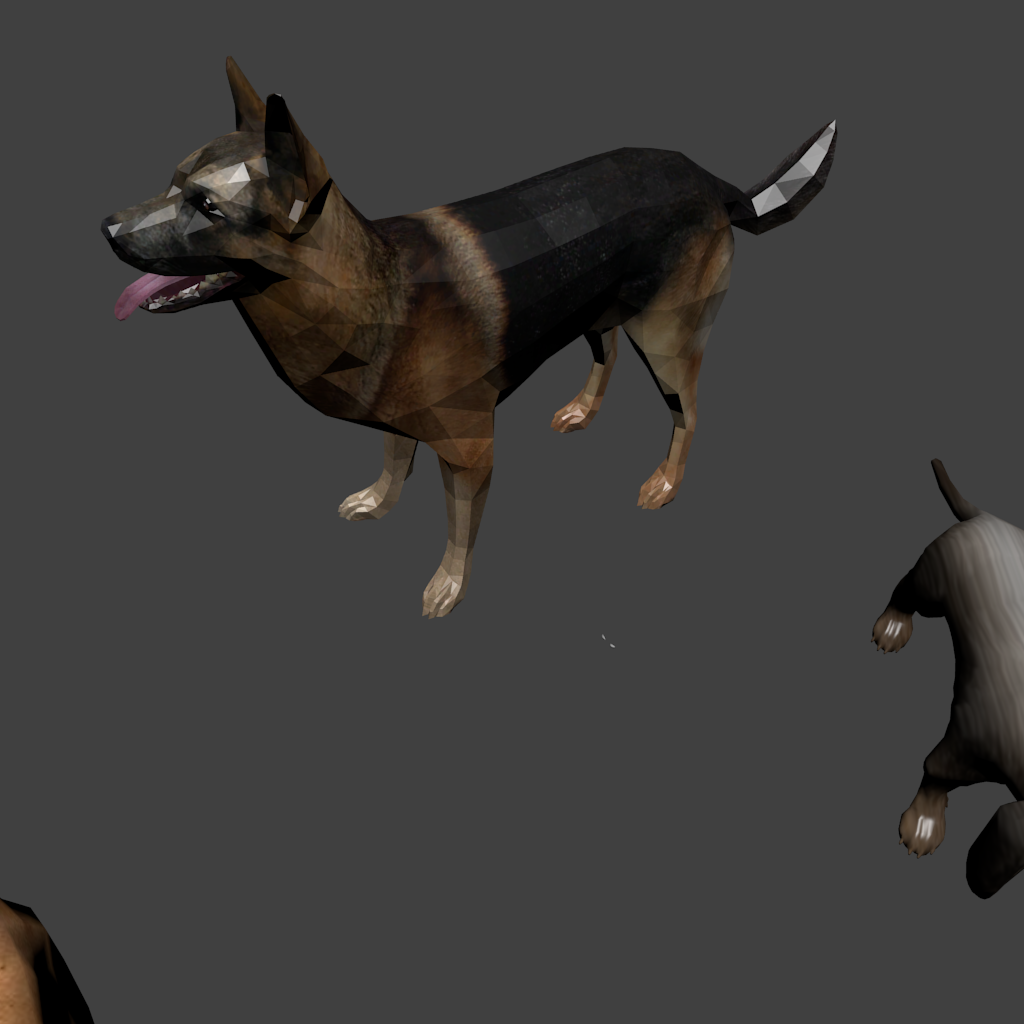Dog: (100, 56, 737, 564)
